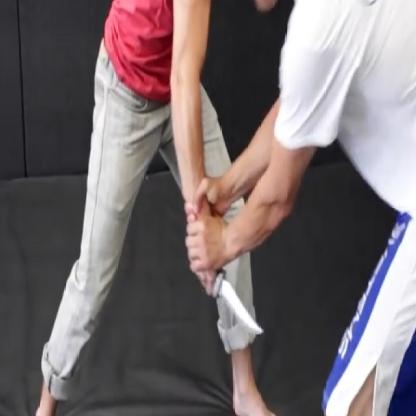knife: (183, 244, 268, 343)
